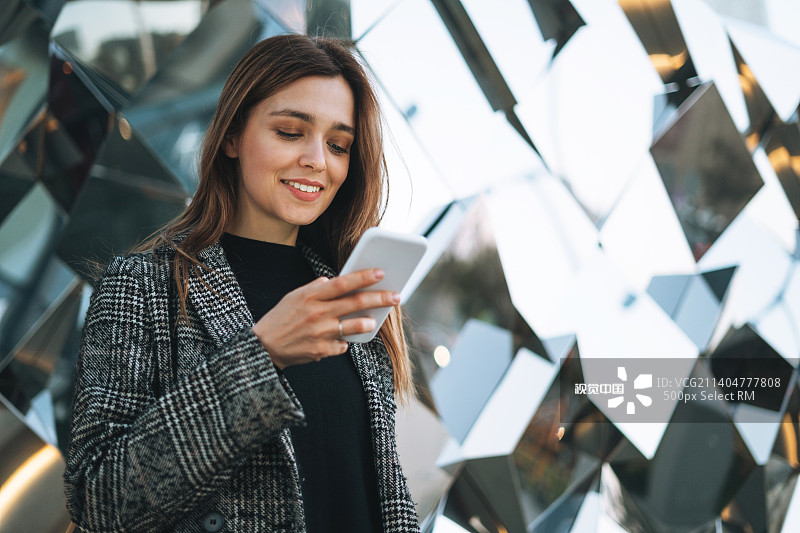reading: (239, 226, 419, 385)
